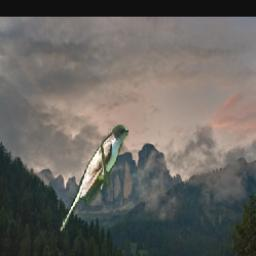Cuckoo: (59, 125, 129, 232)
